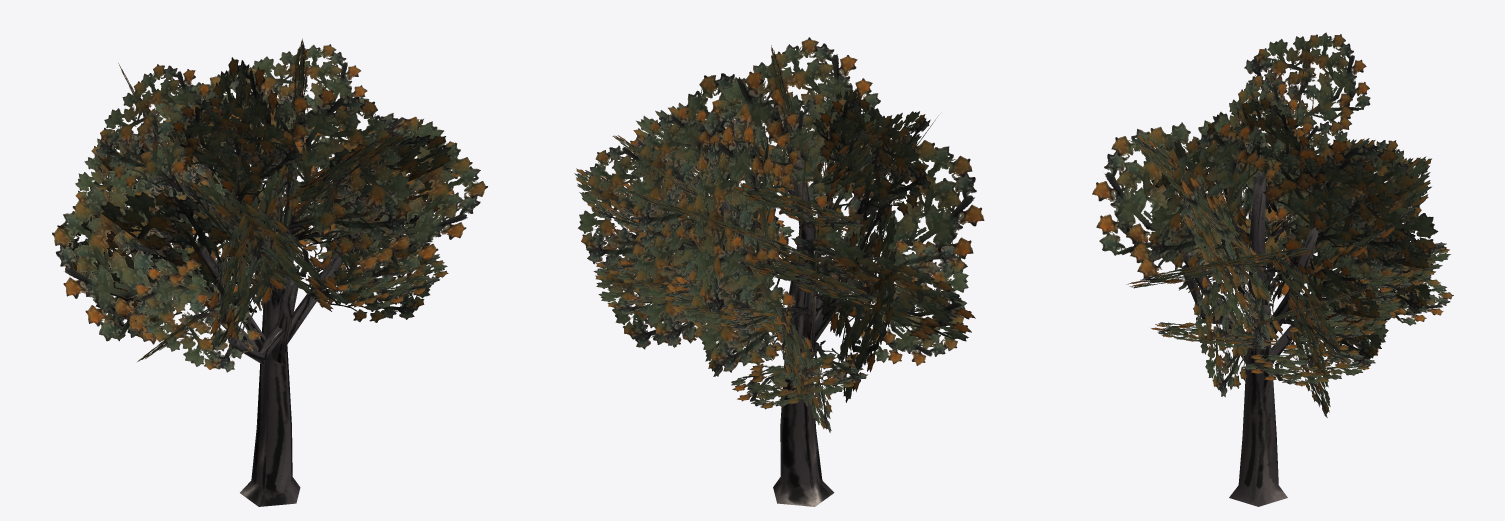
The model's file is Test_En1_Tree1.FBX.
The picture shows the model from 3 angles, left to right: view 1: azimuth 30°, elevation 25°; view 2: azimuth 150°, elevation 25°; view 3: azimuth 270°, elevation 25°; orthographic projection. The views are drawn at different scales.
Visible parts, largest first — view 1: polySurface26; view 2: polySurface26; view 3: polySurface26.
Part boxes in pixels (left/top/right/bottom): polySurface26: left=52, top=38, right=487, bottom=506; polySurface26: left=574, top=37, right=984, bottom=506; polySurface26: left=1092, top=32, right=1453, bottom=506.
Bounding box in the file's own units: 155 × 148 × 135.
Materials: 1 (1 with a texture image).
